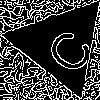C: (35, 20, 98, 78)
